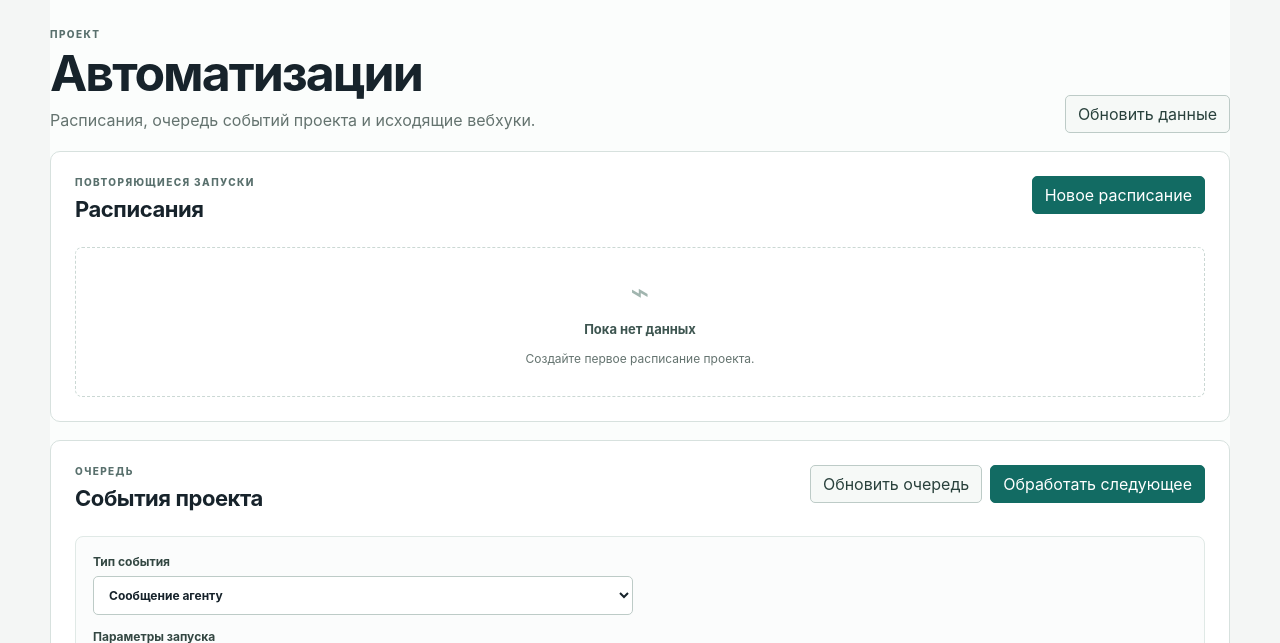
Test: project automations acceptance surface › reports dispatch failures without claiming a successful run
Step 1. Click the button "Обработать следующее" → click(1098, 484), box [990,465,1205,503]
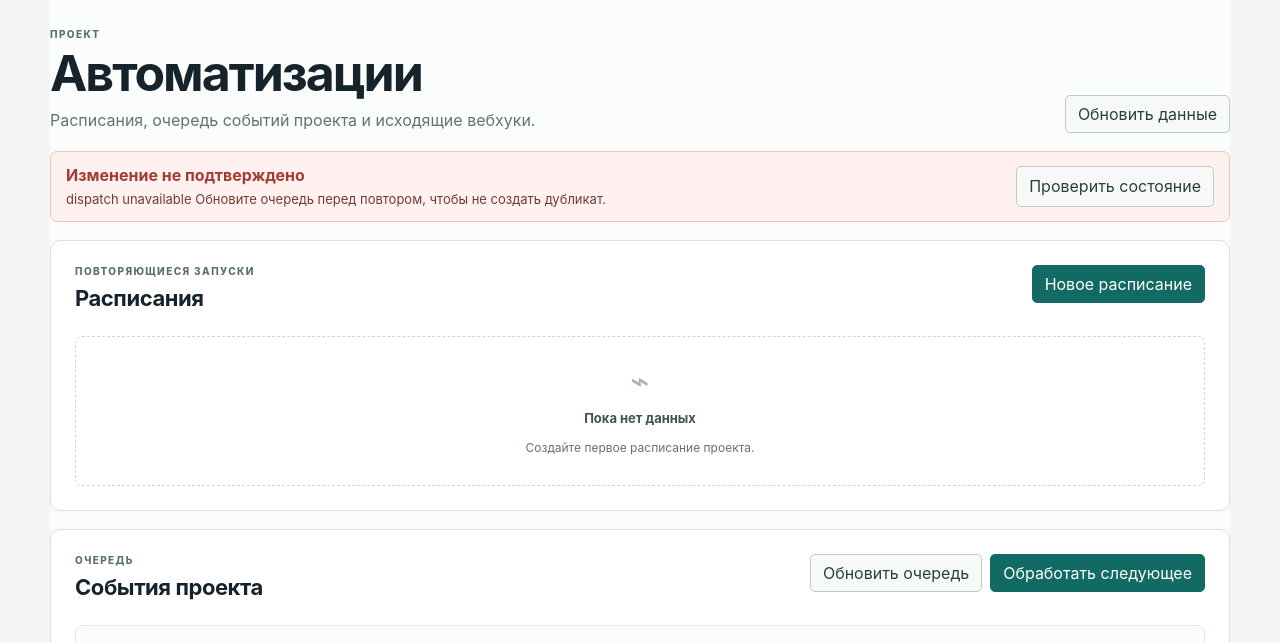
Expected: the text "dispatch unavailable" is shown, [66,191,606,207]
